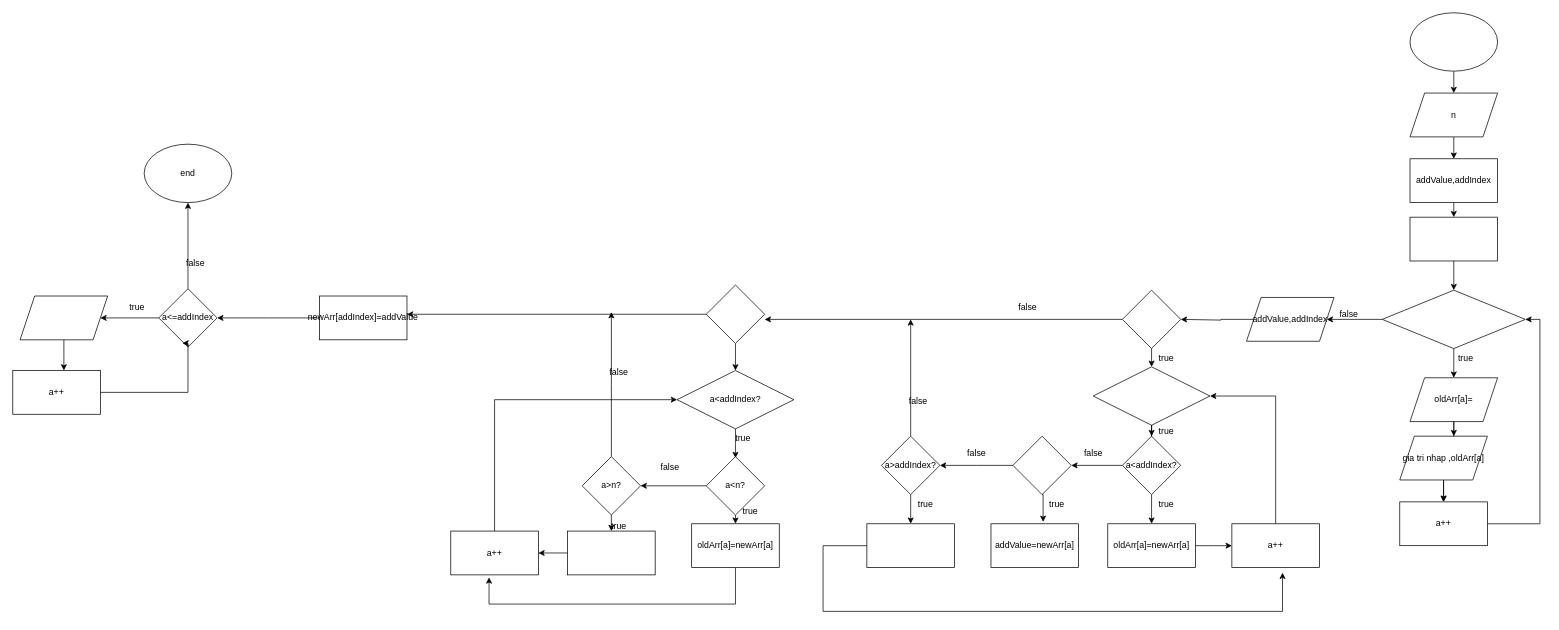
Some shapes in this 1559 by 630 pixel diagram are drawn without their labels. Here are the shapes that lost their labels. From the top down, the centre of each, then its label:
At (1453,41): "start".
At (1453,238): "oldArr[n] newArr[n+1] a=0".
At (63,317): "newNumber[a]".
At (735,313): "addIndex>n?".
At (1151,319): "addIndex<n?".
At (1453,319): "a<sizeof(oldArr) / sizeof(int)?".
At (1151,395): "a<sizeof(newArr) / sizeof(int)?".
At (1041,465): "a==adIndex?".
At (611,552): "newNumber[a]=0".
At (910,545): "oldArr[a-1]=newArr[a]".
